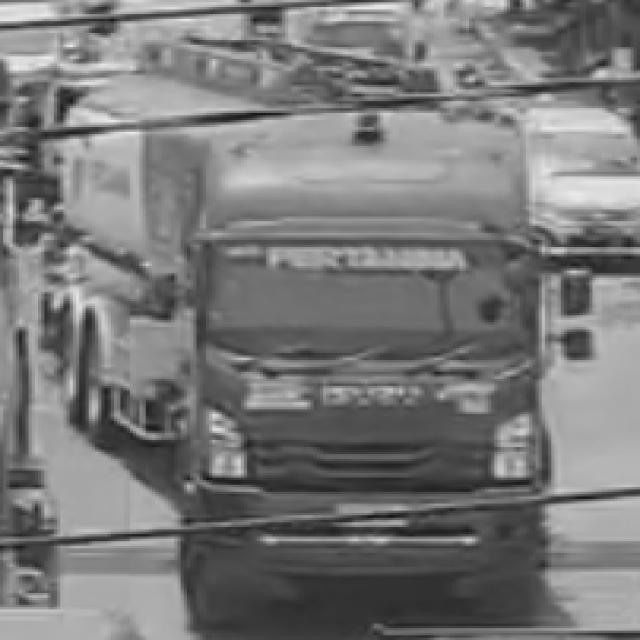Truck: (27, 42, 593, 609)
